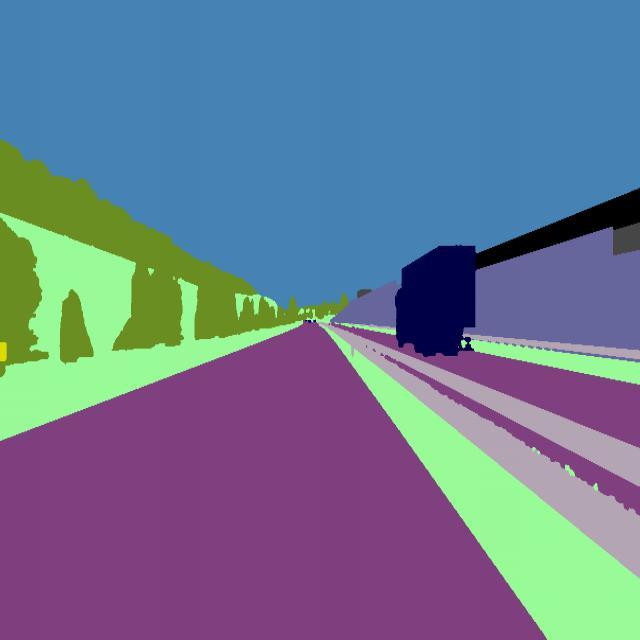safe: (392, 242, 477, 370)
